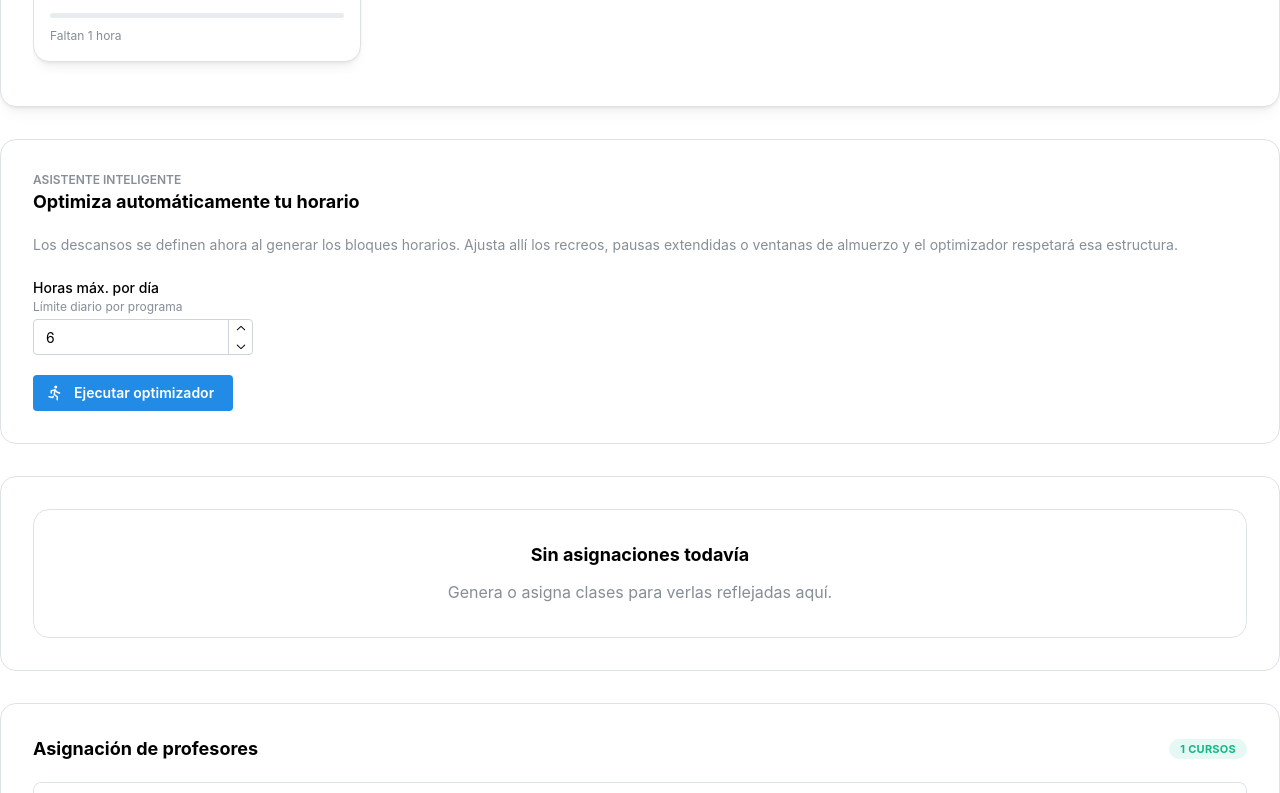
Test case: SchedulePlanner drag & drop experience › muestra métricas de rendimiento y diagnósticos del optimizador
The image size is (1280, 793).
(page scrolled)
What coordinates should you click on to do the following:
click the button "Ejecutar optimizador"
I would click on:
 (133, 393)
Its box is [33, 375, 233, 411].
(page scrolled)
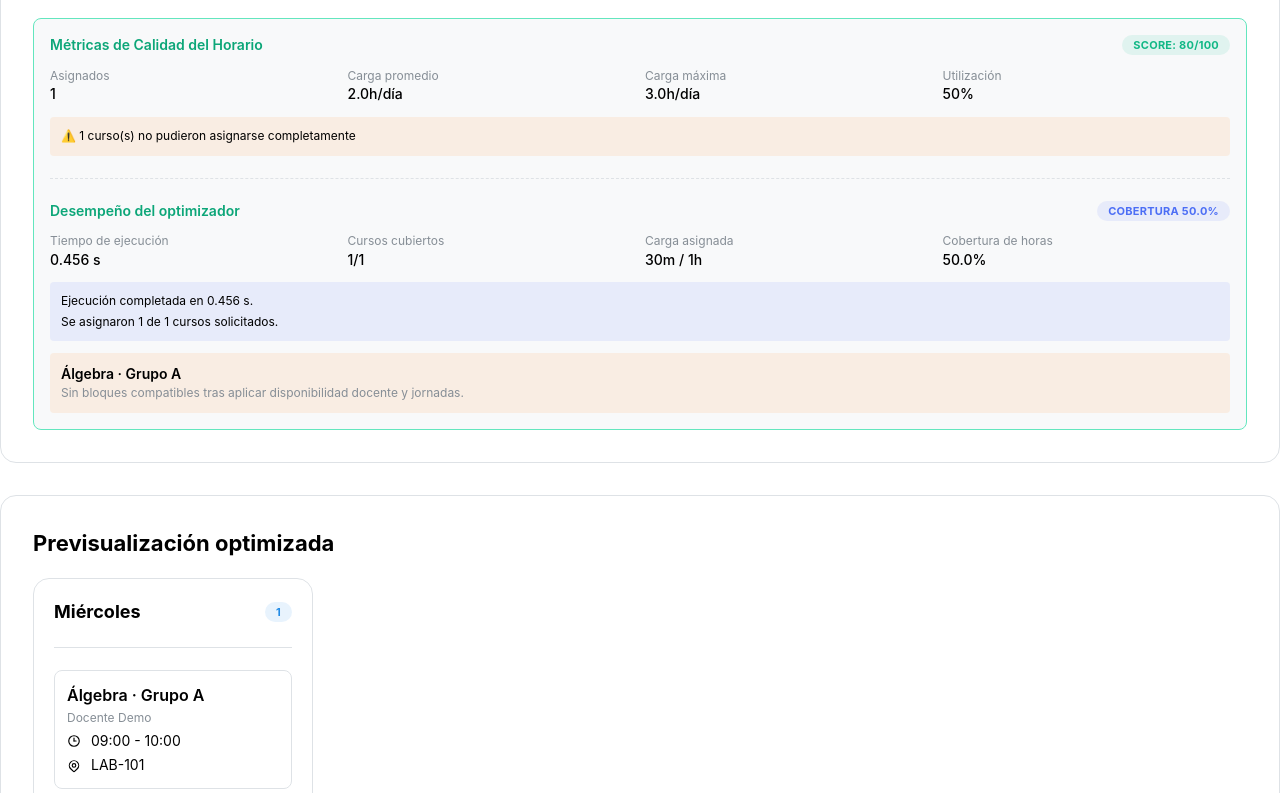
Check: the text "Desempeño del optimizador" is shown, box [50, 200, 240, 221]
Check: the text "Cobertura 50.0%" is shown, box [1108, 202, 1219, 220]
Check: the text "0.456 s" is shown, box [50, 251, 101, 268]
